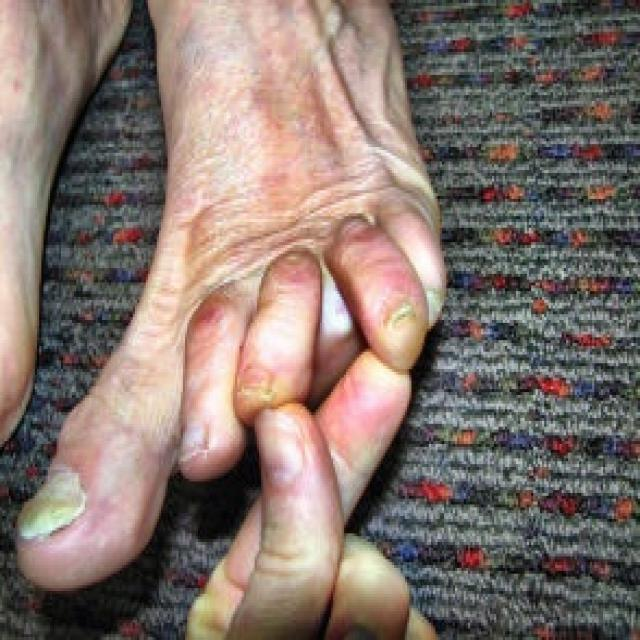Tinea Ringworm Candidiasis and other Fungal Infections: (192, 277, 430, 425)
